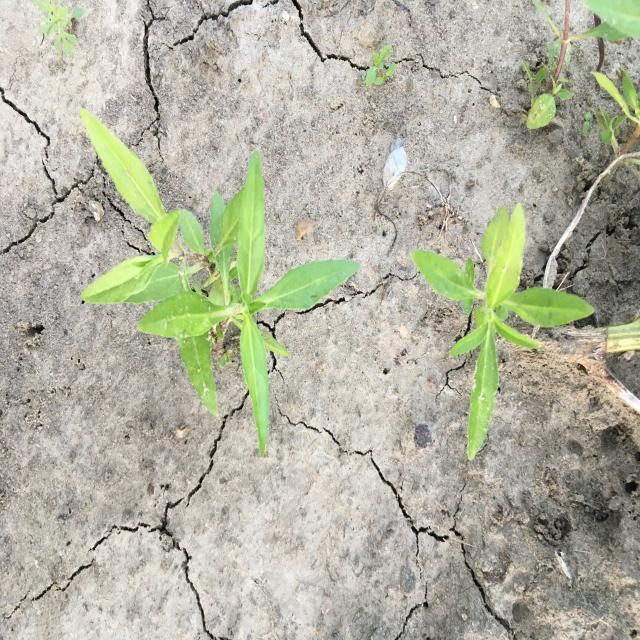Eclipta: (77, 108, 361, 460), (409, 201, 596, 462)
Ragweed: (34, 2, 86, 61)
